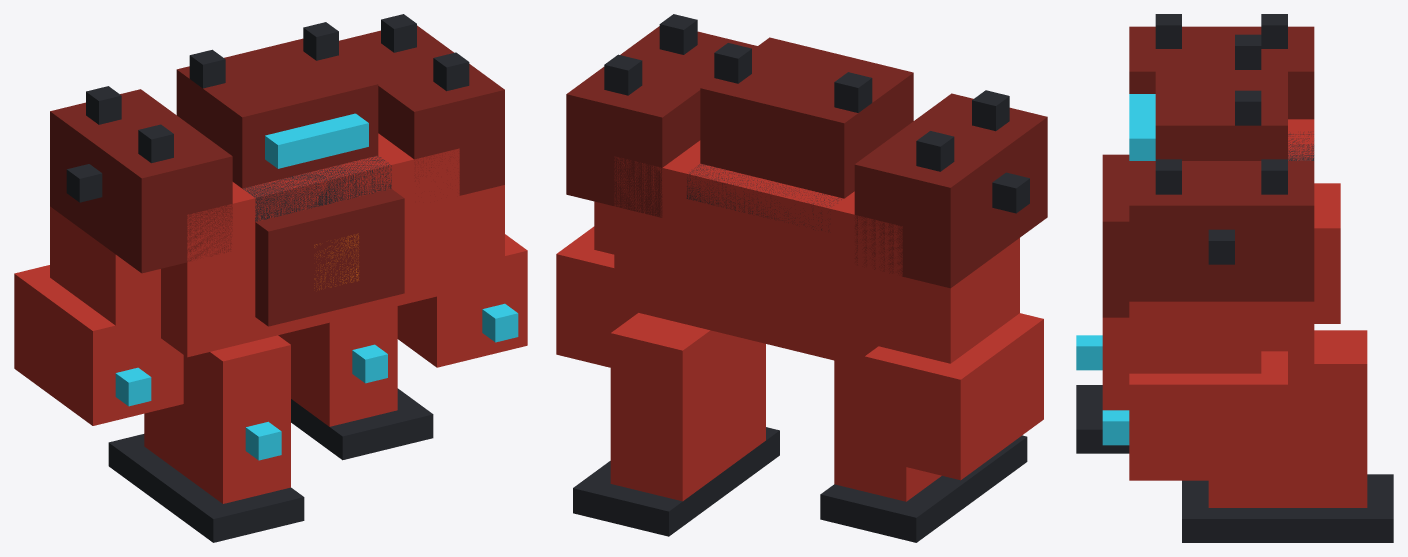
The model's file is mech_boss_walk_a.glb.
The picture shows the model from 3 angles, left to right: view 1: azimuth 30°, elevation 25°; view 2: azimuth 150°, elevation 25°; view 3: azimuth 270°, elevation 25°; orthographic projection. The views are drawn at different scales.
Parts seen in each view (by area): view 1: Torso mesh, Pauldron L mesh, Leg L mesh, Head mesh, Fist L mesh, Chest mesh, Pauldron R mesh, Feet mesh, Leg R mesh, Fist R mesh, Arm L mesh, Spike mesh (+4 smaller); view 2: Torso mesh, Pauldron L mesh, Leg R mesh, Head mesh, Fist L mesh, Pauldron R mesh, Feet mesh, Arm L mesh, Fist R mesh, Spike mesh, Leg L mesh, Horn mesh (+2 smaller); view 3: Pauldron R mesh, Fist R mesh, Leg R mesh, Head mesh, Feet mesh, Arm R mesh, Pauldron L mesh, Spike mesh, Chest mesh, Torso mesh, Fist L mesh, Leg L mesh (+3 smaller).
Part boxes in pixels (x1,y1,x2,y2): Torso mesh: [161, 133, 459, 357]; Pauldron L mesh: [50, 89, 232, 273]; Leg L mesh: [144, 335, 290, 503]; Head mesh: [176, 38, 378, 188]; Fist L mesh: [14, 265, 183, 425]; Chest mesh: [255, 189, 404, 326]; Pauldron R mesh: [339, 25, 504, 195]; Feet mesh: [108, 388, 433, 542]; Leg R mesh: [278, 306, 397, 426]; Fist R mesh: [397, 234, 527, 367]; Arm L mesh: [50, 206, 160, 348]; Spike mesh: [66, 14, 469, 202]; Torso mesh: [614, 140, 902, 367]; Pauldron L mesh: [854, 93, 1047, 288]; Leg R mesh: [610, 313, 765, 501]; Head mesh: [700, 37, 913, 198]; Fist L mesh: [864, 313, 1043, 480]; Pauldron R mesh: [566, 26, 757, 217]; Feet mesh: [573, 427, 1027, 542]; Arm L mesh: [880, 238, 1019, 363]; Fist R mesh: [556, 226, 637, 367]; Spike mesh: [604, 14, 1029, 213]; Leg L mesh: [834, 360, 941, 501]; Horn mesh: [714, 43, 872, 112]; Pauldron R mesh: [1129, 161, 1314, 301]; Fist R mesh: [1102, 351, 1287, 480]; Leg R mesh: [1208, 330, 1367, 507]; Head mesh: [1155, 58, 1287, 160]; Feet mesh: [1076, 385, 1393, 542]; Arm R mesh: [1129, 301, 1261, 373]; Pauldron L mesh: [1129, 26, 1314, 119]; Spike mesh: [1155, 14, 1287, 264]; Chest mesh: [1102, 154, 1129, 317]; Torso mesh: [1261, 119, 1314, 374]; Fist L mesh: [1314, 183, 1340, 323]; Leg L mesh: [1076, 317, 1129, 410].
Size of the model in its own units: 18 by 17 by 12.
1 material, 1 textured.
